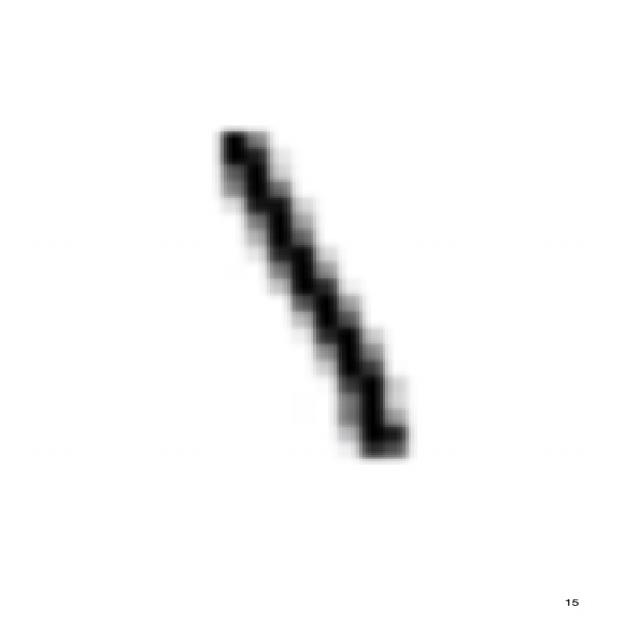1 -one-: (199, 112, 437, 470)
